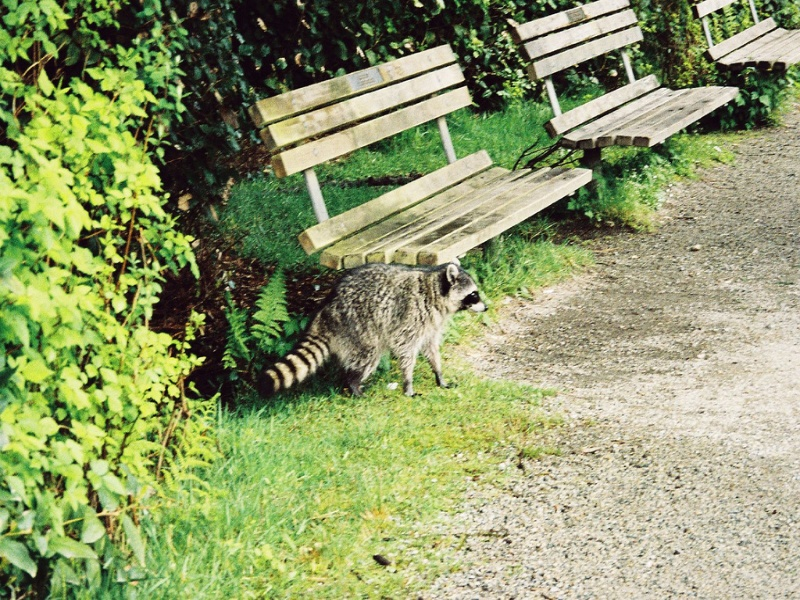raccoon: (266, 262, 487, 405)
